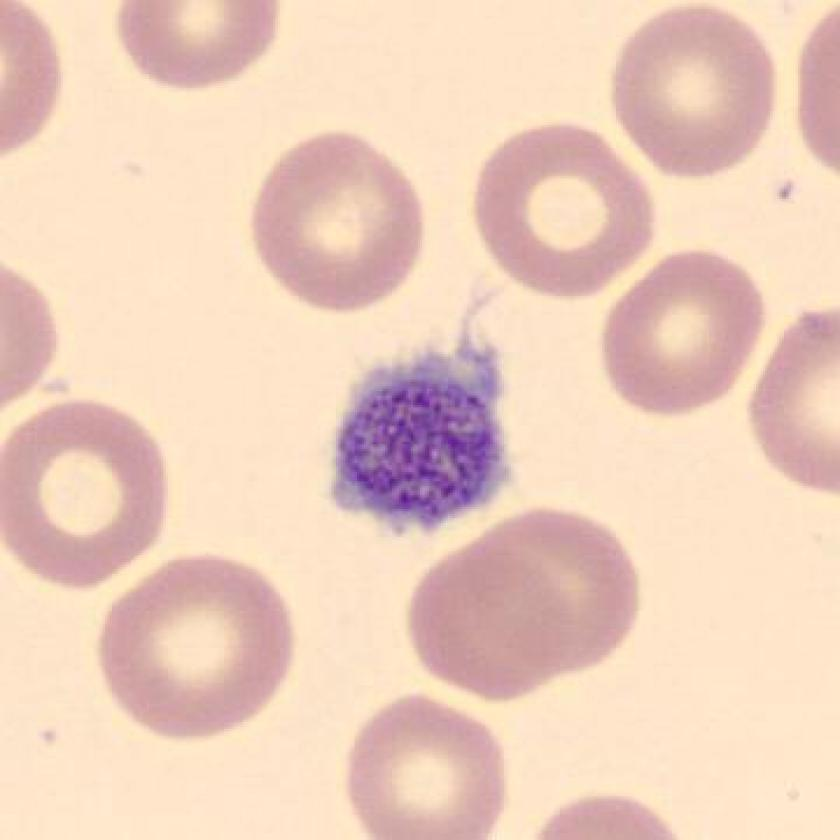platelets: (318, 332, 524, 549)
